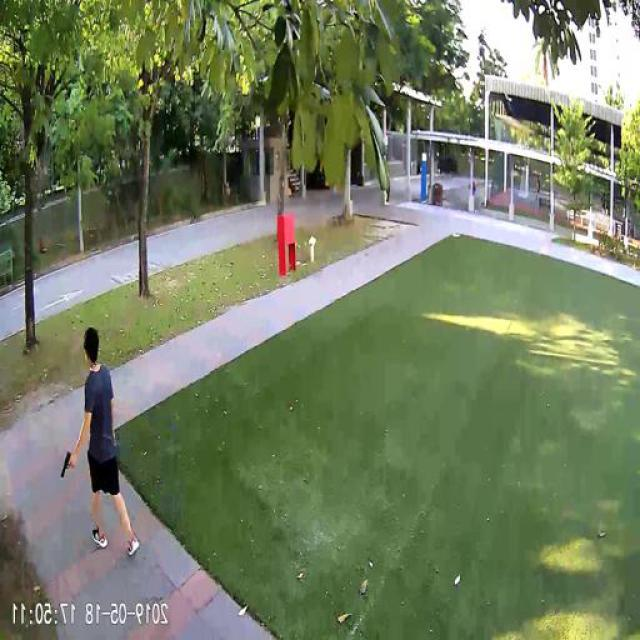Gun: (61, 448, 74, 478)
